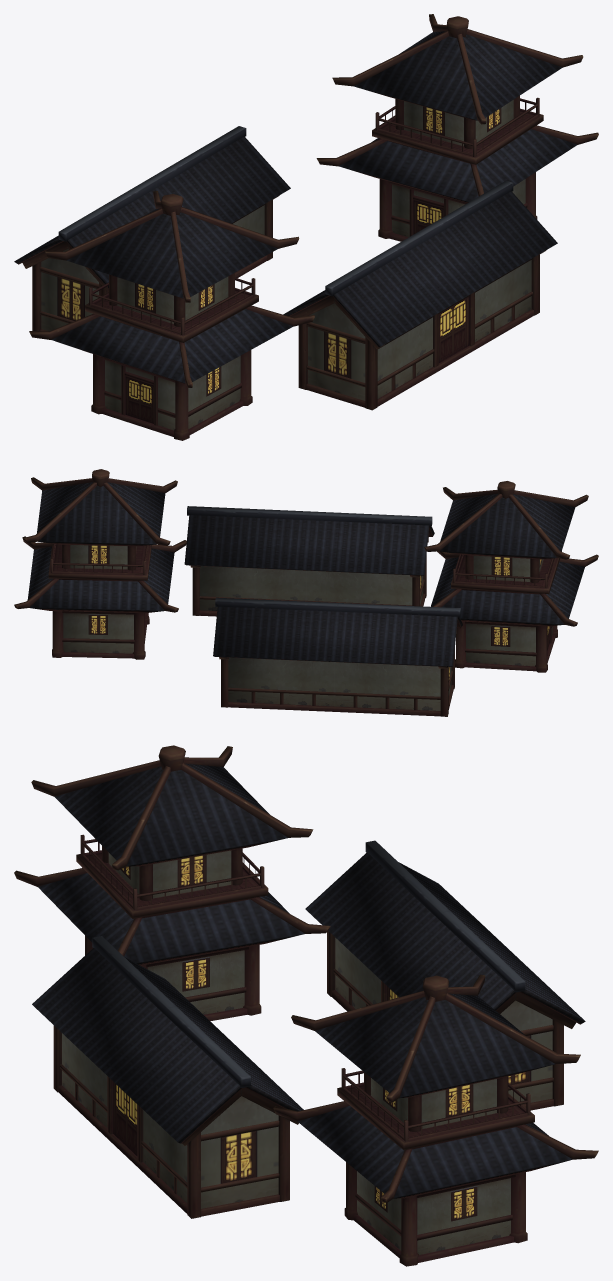
The model's file is Area_15_2.fbx.
3 renders of one model, top to bottom at view 1: azimuth 30°, elevation 25°; view 2: azimuth 150°, elevation 25°; view 3: azimuth 270°, elevation 25°, orthographic. The views are drawn at different scales.
Visible parts, largest first — view 1: Area_15_2; view 2: Area_15_2; view 3: Area_15_2.
Boxes of the visible parts, bbox=[...] form: Area_15_2: bbox=[14, 14, 598, 440]; Area_15_2: bbox=[14, 469, 598, 716]; Area_15_2: bbox=[14, 745, 598, 1266].
Bounding box in the file's own units: 4886 × 1566 × 3306.
